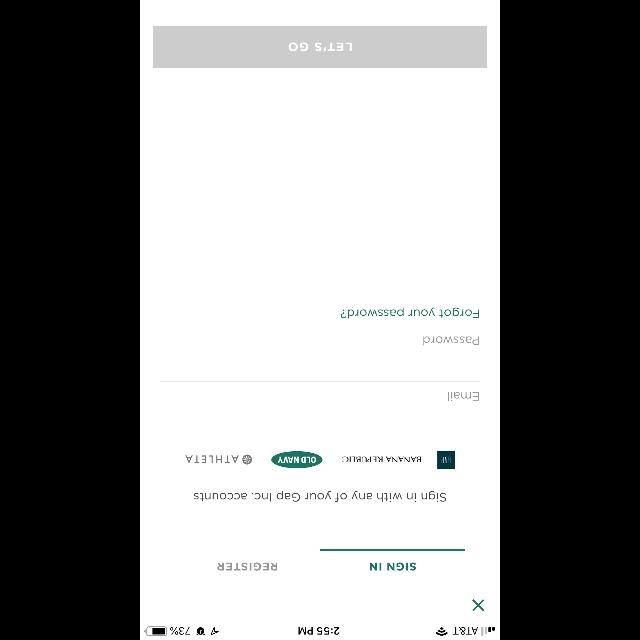icon: (472, 599, 484, 611)
image: (272, 450, 322, 468), (438, 452, 454, 468), (242, 454, 252, 464)
input: (160, 326, 480, 346), (160, 381, 480, 401)
text: (194, 491, 446, 502), (341, 308, 479, 318), (423, 336, 479, 346), (217, 562, 277, 570), (342, 456, 421, 462), (186, 455, 238, 463), (370, 562, 416, 570), (448, 392, 478, 401)
textbutton: (154, 26, 486, 68)
uppertaskbar: (140, 626, 500, 640)
